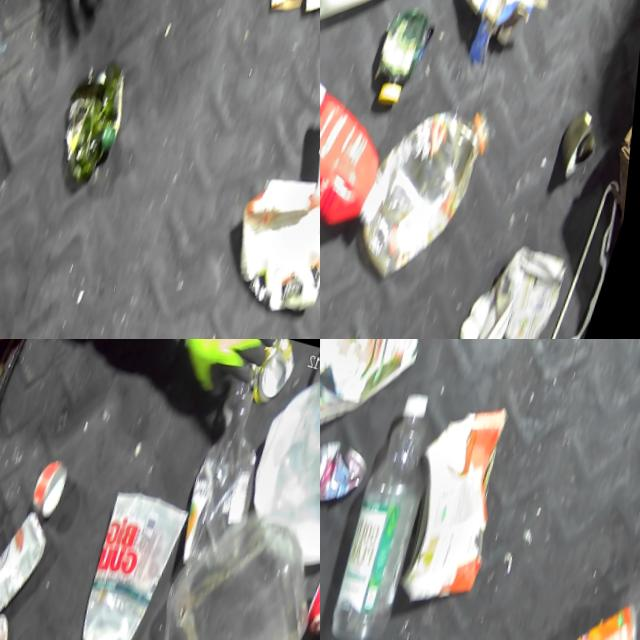can: (0, 501, 58, 623), (320, 427, 382, 511), (239, 339, 302, 408), (556, 103, 612, 179), (299, 573, 320, 640)
milk_jug: (230, 368, 320, 579), (221, 161, 320, 315), (320, 542, 354, 640)
non_white_jug: (320, 69, 418, 237)
plastic_bottle: (331, 382, 460, 640)
